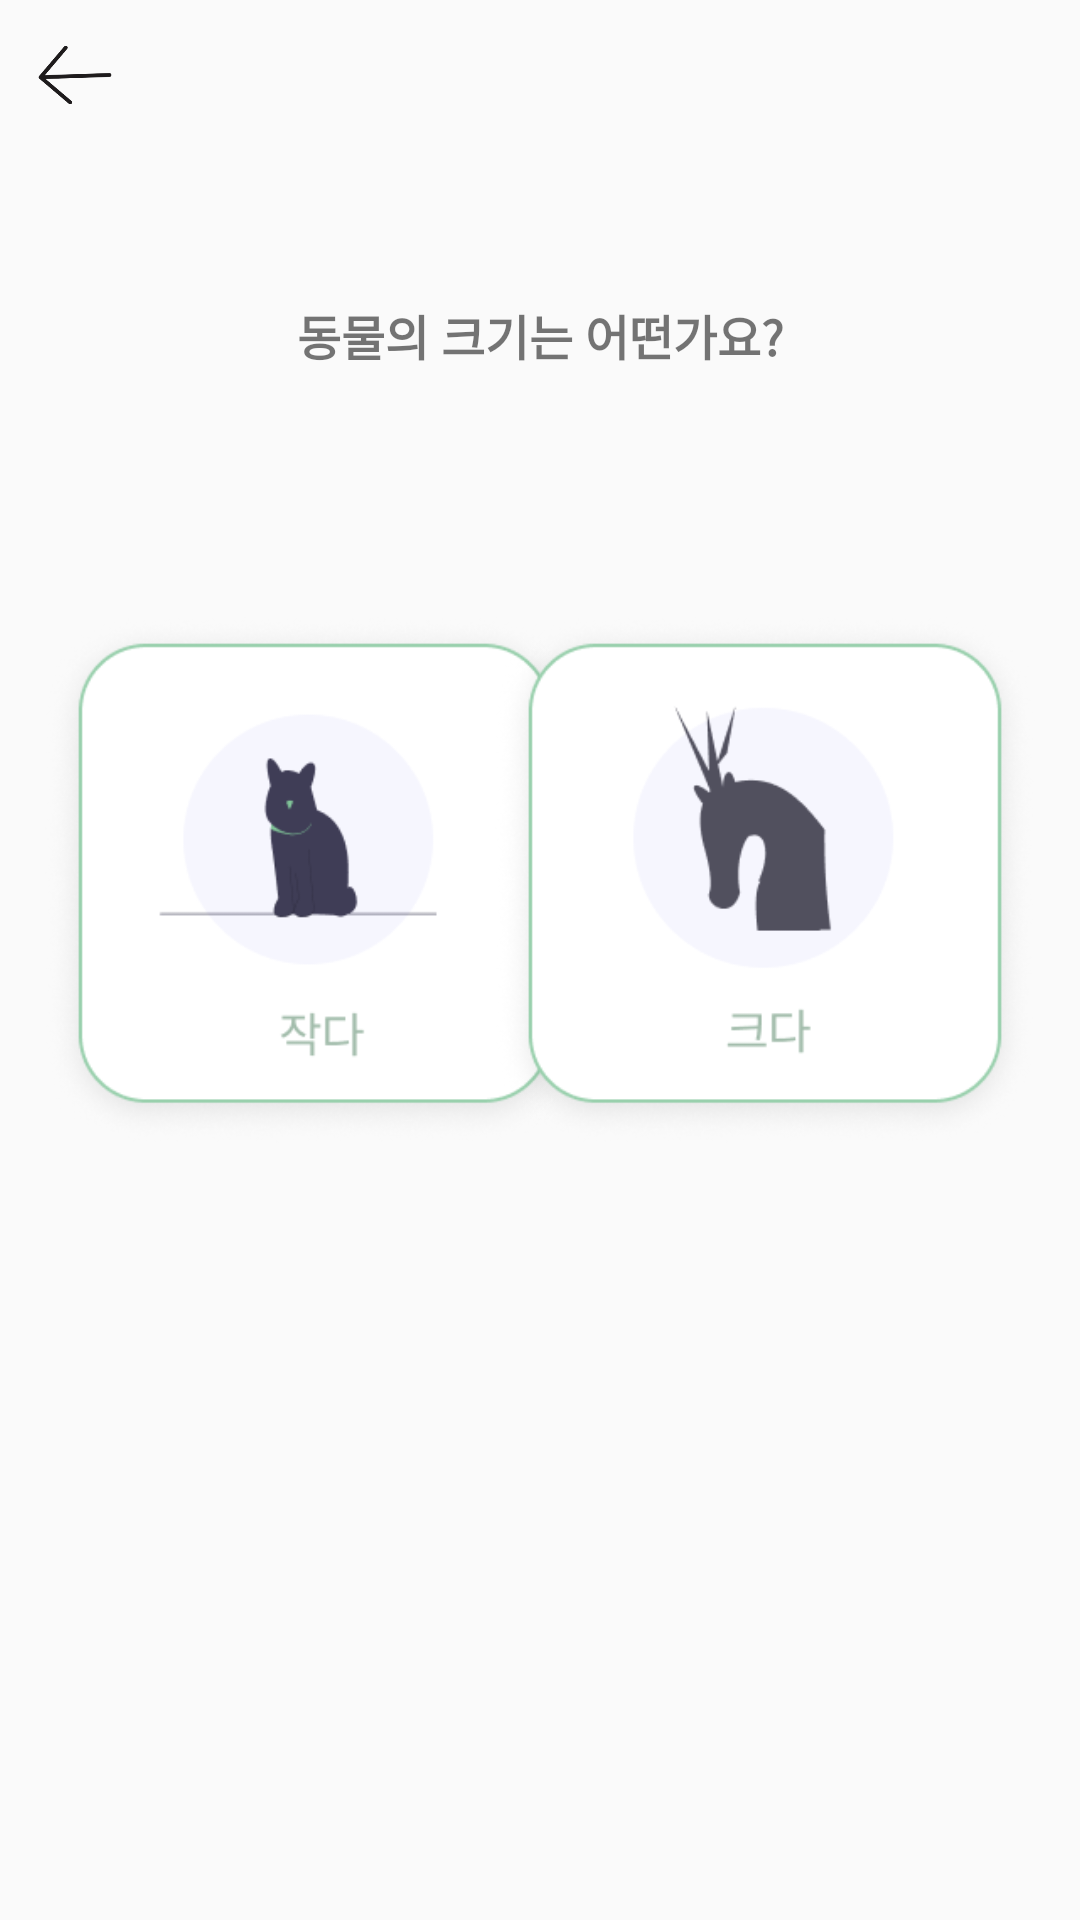

Locate icon controls on the screen. Image size 1080x1920, boxes as (x1, y1, x2, y2).
back arrow: (38, 46, 112, 104)
